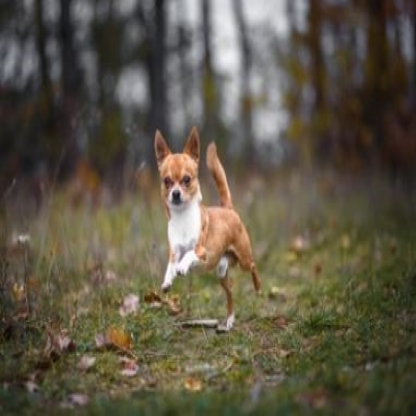chihuahua: (152, 124, 263, 330)
